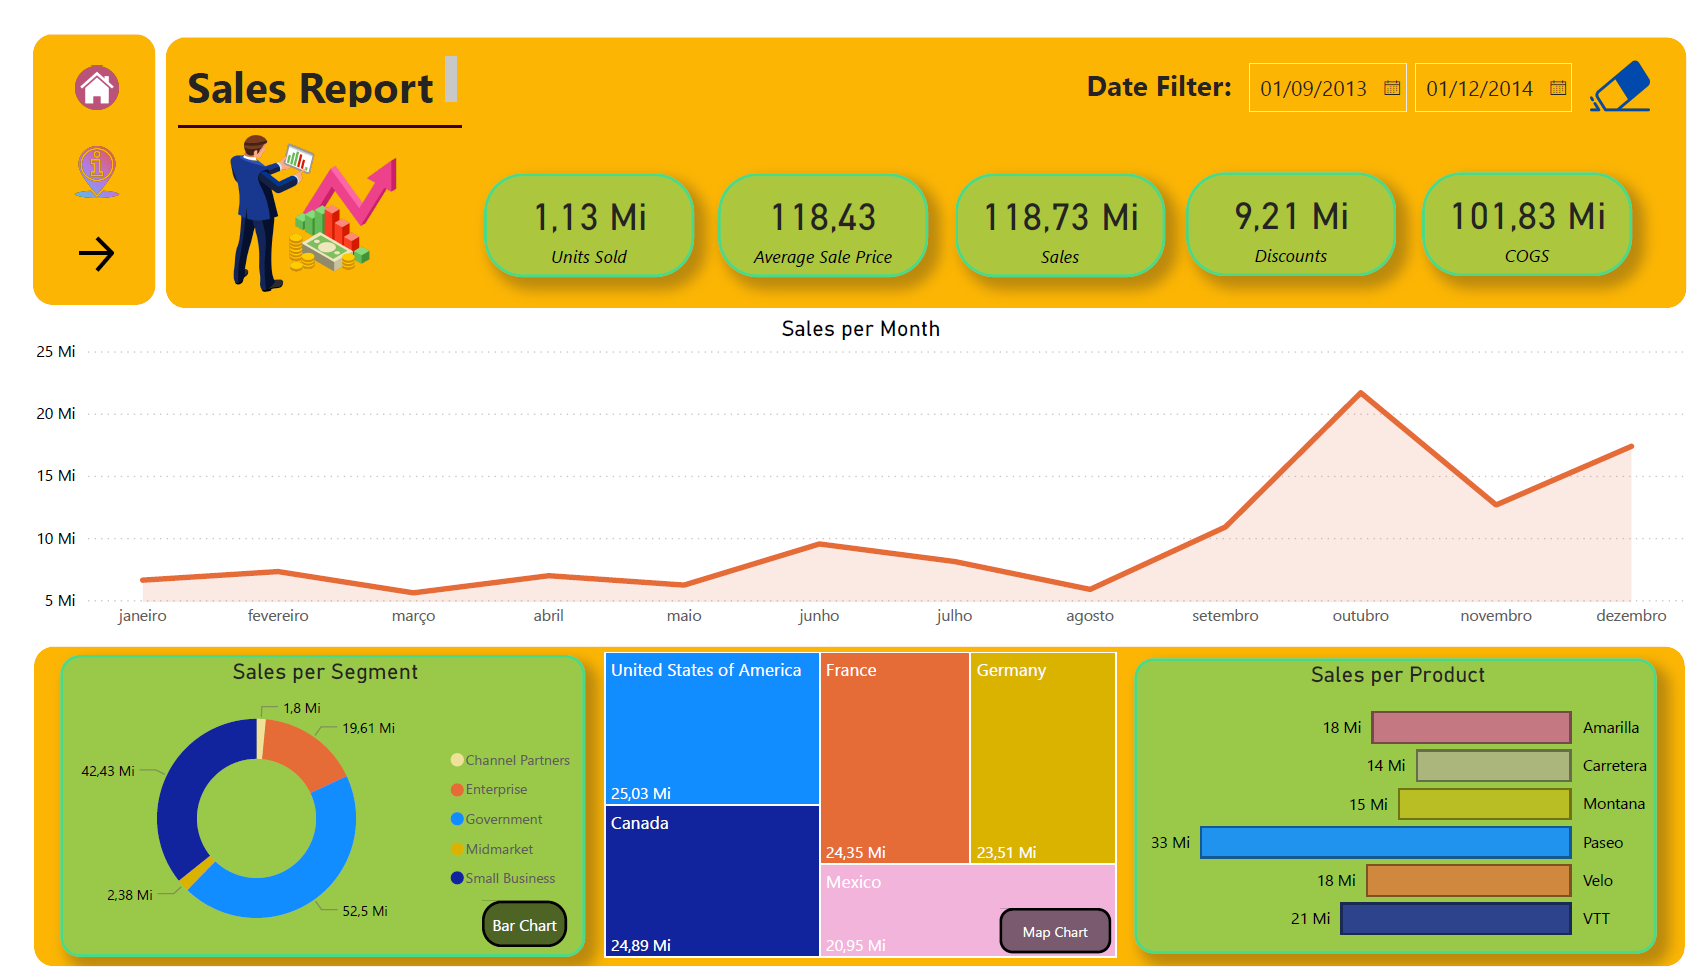

What the dashboard file says about the page in this screenshot:
{"tool":"powerbi","page":{"name":"Main","canvas":[1280,720],"ordinal":1},"visuals":[{"type":"shape","box":[9.8,9.8,93.3,206.3],"z":0,"group":"g6"},{"type":"shape","box":[111,11.8,1159.1,206.3],"z":0,"group":"g5"},{"type":"image","box":[33.5,90.4,49.1,49.1],"z":0,"group":"g1"},{"type":"shape","box":[10.8,476.6,1258.4,243.6],"z":0,"group":"g2"},{"type":"donutChart","title":"Sales per Segment","fields":{"Category":["financials.Segment"],"Y":["Sum(financials. Sales)"]},"box":[30.5,483,400,230],"z":0,"group":"g4"},{"type":"actionButton","box":[35.6,87.6,44.2,52.1],"z":1000,"group":"g1"},{"type":"card","fields":{"Values":["Sum(financials.COGS)"]},"box":[1068.9,114.8,159.8,79.5],"z":1000,"group":"g5"},{"type":"actionButton","title":"Botão - Next","box":[39.4,159.3,36.3,36.3],"z":1000,"group":"g6"},{"type":"treemap","title":"Sales x Country - tree","fields":{"Group":["financials.Country"],"Values":["Sum(financials. Sales)"]},"box":[441,476,399.8,242.6],"z":1000,"group":"g3"},{"type":"clusteredBarChart","title":"Sales per Product","fields":{"Category":["financials.Product"],"Y":["Sum(financials. Sales)"]},"box":[849.3,485.3,397.9,225],"z":1000,"group":"g2"},{"type":"group","id":"g1","title":"Info","box":[33.5,87.6,49.1,52.1],"z":2000,"group":"g6"},{"type":"card","fields":{"Values":["Sum(financials.Discounts)"]},"box":[888.5,114.8,159.8,79.5],"z":2000,"group":"g5"},{"type":"group","id":"g2","title":"Sales","box":[10.8,476,1258.4,244.2],"z":2000},{"type":"group","id":"g3","title":"Sales x país","box":[441,476,399.8,242.6],"z":2000,"group":"g2"},{"type":"actionButton","title":"Botão - Map","box":[746.8,675.8,85.1,34.5],"z":2000,"group":"g3"},{"type":"image","box":[36.9,26,43.2,48.1],"z":3000,"group":"g7"},{"type":"card","fields":{"Values":["Sum(financials. Sales)"]},"box":[712.7,115.5,159.8,79.5],"z":3000,"group":"g5"},{"type":"lineChart","title":"Sales per Month","fields":{"Category":["financials.Date.Variation.Hierarquia de datas.Mês"],"Y":["Sum(financials. Sales)"]},"box":[11.8,223,1257.4,242.6],"z":3000},{"type":"group","id":"g4","title":"Sales x Segmento","box":[30,483,400.5,230],"z":3000,"group":"g2"},{"type":"actionButton","title":"Botão - bar","box":[351.9,670.3,64.8,35.4],"z":3000,"group":"g4"},{"type":"actionButton","box":[40.9,25.9,37.3,48.1],"z":3500,"group":"g7"},{"type":"card","fields":{"Values":["Avg(financials.Sale Price)"]},"box":[532.3,115.5,159.8,79.5],"z":4000,"group":"g5"},{"type":"group","id":"g5","title":"Filtro por data","box":[111,11.8,1159.1,206.3],"z":4500},{"type":"card","fields":{"Values":["Sum(financials.Units Sold)"]},"box":[353.9,115.5,159.8,79.5],"z":5000,"group":"g5"},{"type":"group","id":"g6","title":"Home","box":[9.8,9.8,93.3,206.3],"z":6000},{"type":"image","title":"clean","box":[1189.6,21.2,60.3,55.2],"z":6000,"group":"g5"},{"type":"group","id":"g7","title":"Home","box":[36.9,25.9,43.2,48.2],"z":6001,"group":"g6"},{"type":"actionButton","box":[1192.7,25.3,60.3,51.1],"z":7000,"group":"g5"},{"type":"slicer","fields":{"Values":["financials.Date"]},"box":[923.5,21.1,271.7,55.5],"z":8000,"group":"g5"},{"type":"textbox","box":[807.6,28.7,130.9,42.3],"z":9000,"group":"g5"},{"type":"image","box":[116.6,80.2,249,132.4],"z":10000,"group":"g5"},{"type":"shape","box":[120.8,62.8,216.2,32.7],"z":11000,"group":"g5"},{"type":"textbox","box":[122.2,21.6,214.8,48.4],"z":12000,"group":"g5"}]}

Visuals, with their boxes in screenshot pixels (x1, y1, x2, y2), scaled from the page's 1280x720 canvas onto the 1691x980 screenshot:
shape: BBox(13, 13, 136, 294)
shape: BBox(147, 16, 1678, 297)
image: BBox(44, 123, 109, 190)
shape: BBox(14, 649, 1677, 979)
"Sales per Segment" donutChart: BBox(40, 657, 569, 970)
actionButton: BBox(47, 119, 105, 190)
card - Sum(financials.COGS): BBox(1412, 156, 1623, 264)
"Botão - Next" actionButton: BBox(52, 217, 100, 266)
"Sales x Country - tree" treemap: BBox(583, 648, 1111, 978)
"Sales per Product" clusteredBarChart: BBox(1122, 661, 1648, 967)
"Info" group: BBox(44, 119, 109, 190)
card - Sum(financials.Discounts): BBox(1174, 156, 1385, 264)
"Sales" group: BBox(14, 648, 1677, 979)
"Sales x país" group: BBox(583, 648, 1111, 978)
"Botão - Map" actionButton: BBox(987, 920, 1099, 967)
image: BBox(49, 35, 106, 101)
card - Sum(financials. Sales): BBox(942, 157, 1153, 265)
"Sales per Month" lineChart: BBox(16, 304, 1677, 634)
"Sales x Segmento" group: BBox(40, 657, 569, 970)
"Botão - bar" actionButton: BBox(465, 912, 550, 961)
actionButton: BBox(54, 35, 103, 101)
card - Avg(financials.Sale Price): BBox(703, 157, 914, 265)
"Filtro por data" group: BBox(147, 16, 1678, 297)
card - Sum(financials.Units Sold): BBox(468, 157, 679, 265)
"Home" group: BBox(13, 13, 136, 294)
"clean" image: BBox(1572, 29, 1651, 104)
"Home" group: BBox(49, 35, 106, 101)
actionButton: BBox(1576, 34, 1655, 104)
slicer - financials.Date: BBox(1220, 29, 1579, 104)
textbox: BBox(1067, 39, 1240, 97)
image: BBox(154, 109, 483, 289)
shape: BBox(160, 85, 445, 130)
textbox: BBox(161, 29, 445, 95)
